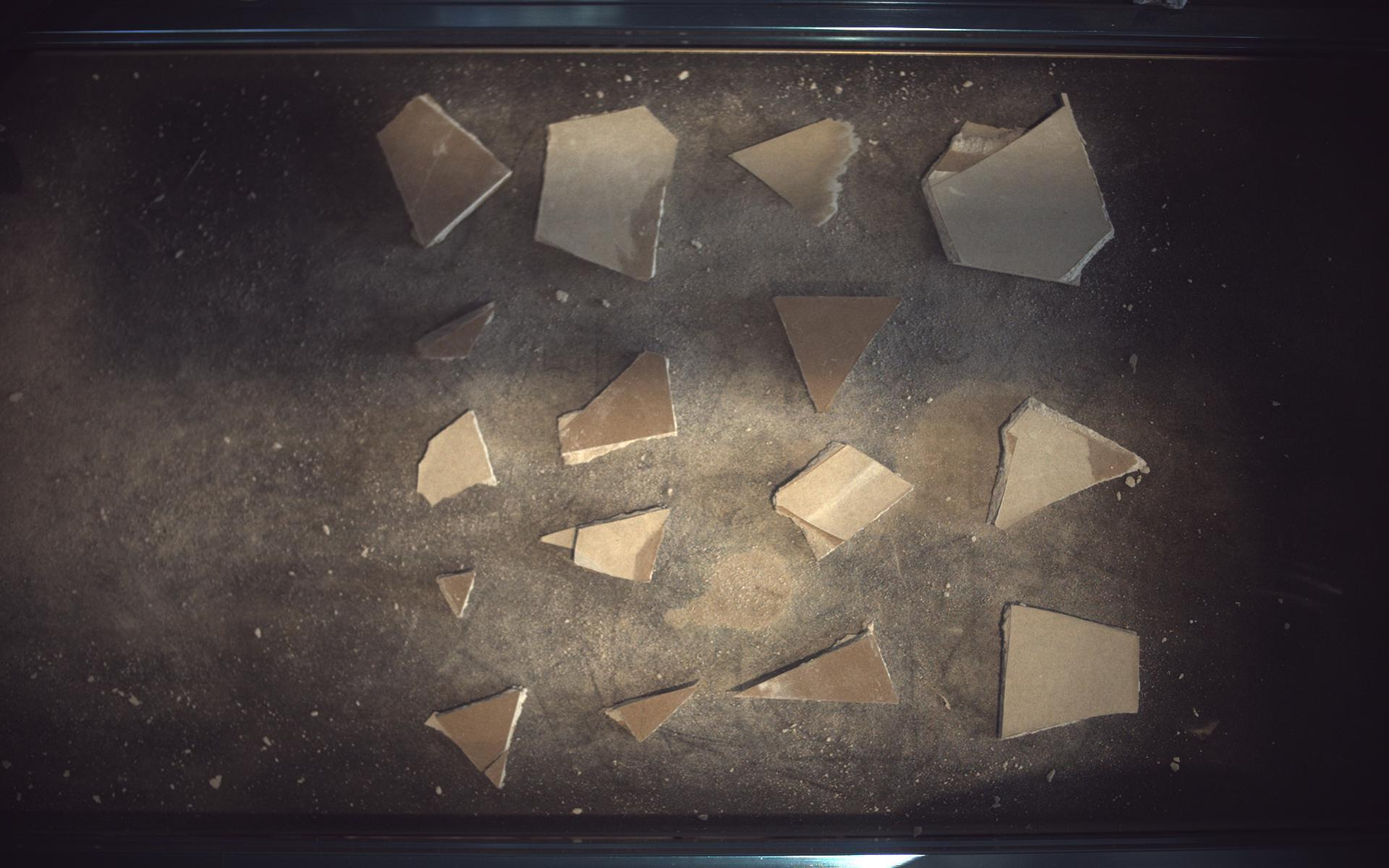gypsum_board: (924, 94, 1116, 284), (536, 105, 678, 280), (990, 397, 1152, 529), (377, 93, 512, 247), (1000, 604, 1142, 740), (773, 442, 915, 560), (775, 297, 902, 412), (731, 118, 862, 225), (559, 351, 678, 465), (737, 626, 900, 705), (425, 687, 527, 790), (540, 507, 671, 583), (417, 410, 497, 506), (605, 681, 702, 742), (414, 301, 496, 360), (436, 570, 475, 618)
